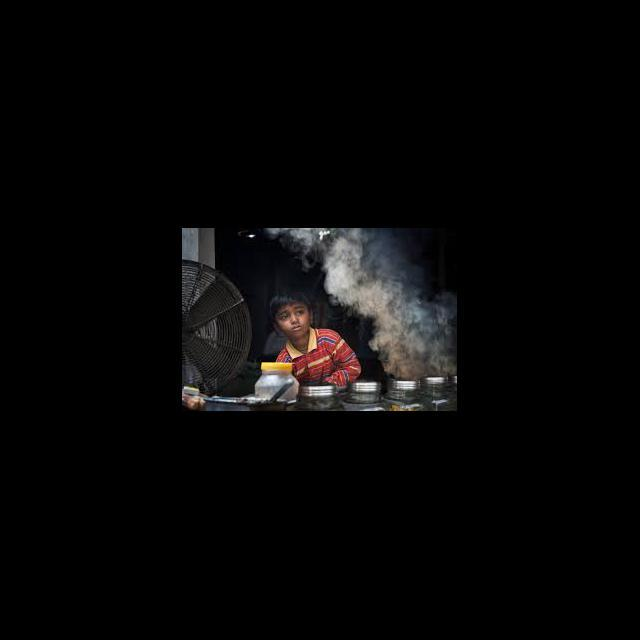Smoke: (374, 280, 456, 372), (325, 231, 422, 302), (274, 228, 326, 270)
